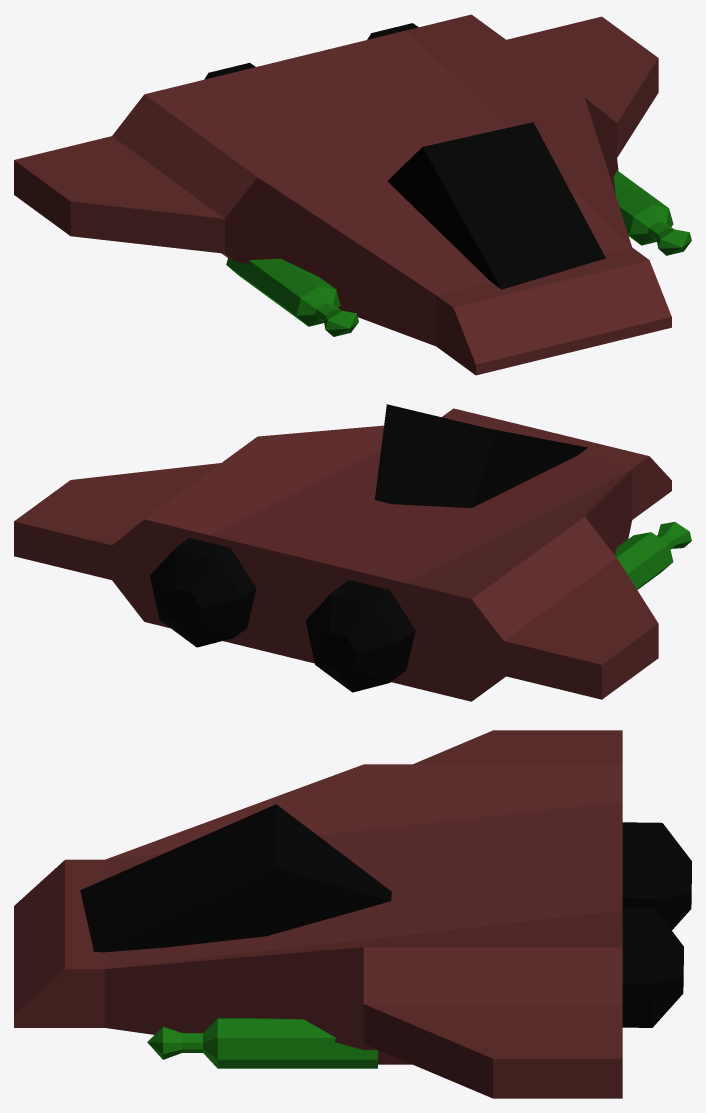
Rendered from fjende_1.glb.
The picture shows the model from 3 angles, top to bottom: view 1: azimuth 30°, elevation 25°; view 2: azimuth 150°, elevation 25°; view 3: azimuth 270°, elevation 25°; orthographic projection. The views are drawn at different scales.
Visible parts, largest first — view 1: Cube, Icosphere, Cylinder.002; view 2: Cube, Icosphere, Cylinder.001, Cylinder, Cylinder.002; view 3: Cube, Icosphere, Cylinder.002, Cylinder, Cylinder.001.
Boxes of the visible parts, x1=… form: Cube: x1=14, y1=14, x2=671, y2=375; Icosphere: x1=387, y1=122, x2=605, y2=289; Cylinder.002: x1=226, y1=170, x2=691, y2=336; Cube: x1=14, y1=408, x2=671, y2=701; Icosphere: x1=374, y1=404, x2=587, y2=508; Cylinder.001: x1=305, y1=580, x2=415, y2=692; Cylinder: x1=150, y1=537, x2=256, y2=647; Cylinder.002: x1=615, y1=522, x2=691, y2=589; Cube: x1=14, y1=730, x2=622, y2=1098; Icosphere: x1=80, y1=804, x2=391, y2=952; Cylinder.002: x1=147, y1=1018, x2=377, y2=1068; Cylinder: x1=622, y1=907, x2=683, y2=1027; Cylinder.001: x1=622, y1=822, x2=691, y2=930.
Size of the model in its own units: 6 by 1.3 by 5.24.
